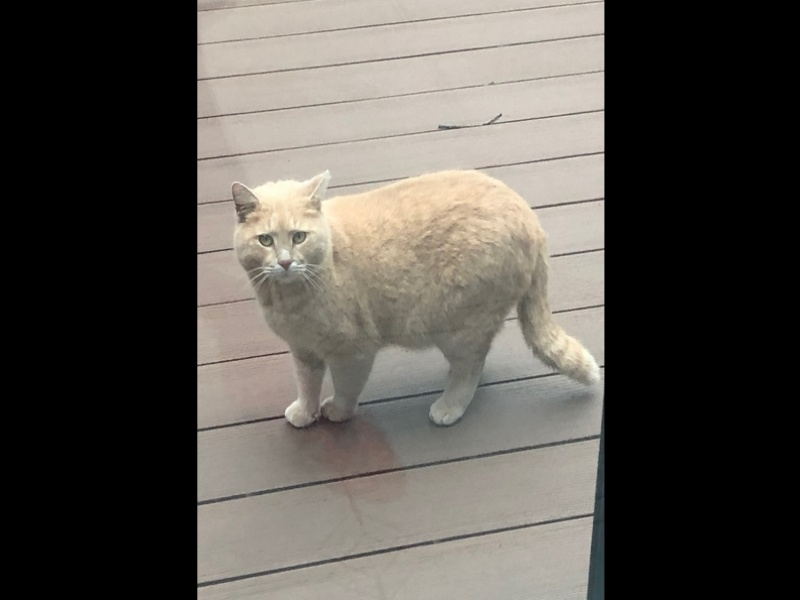cat: (226, 168, 599, 434)
